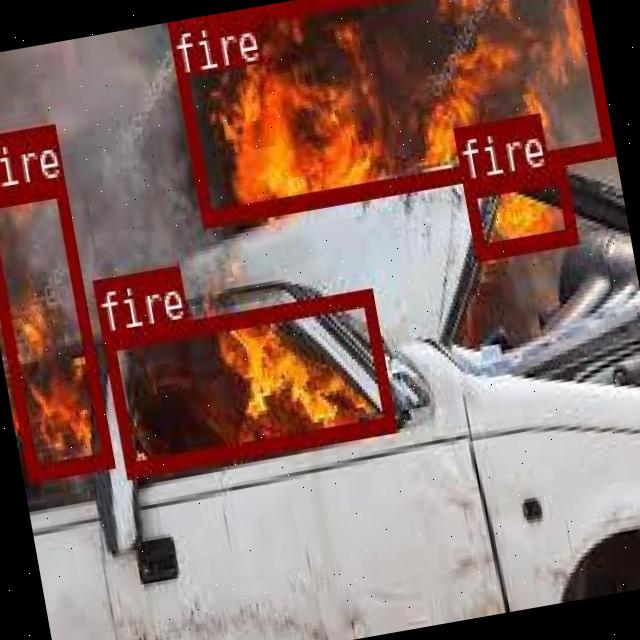fire: (167, 0, 610, 222), (101, 287, 395, 476), (0, 178, 112, 478), (461, 162, 576, 256)
